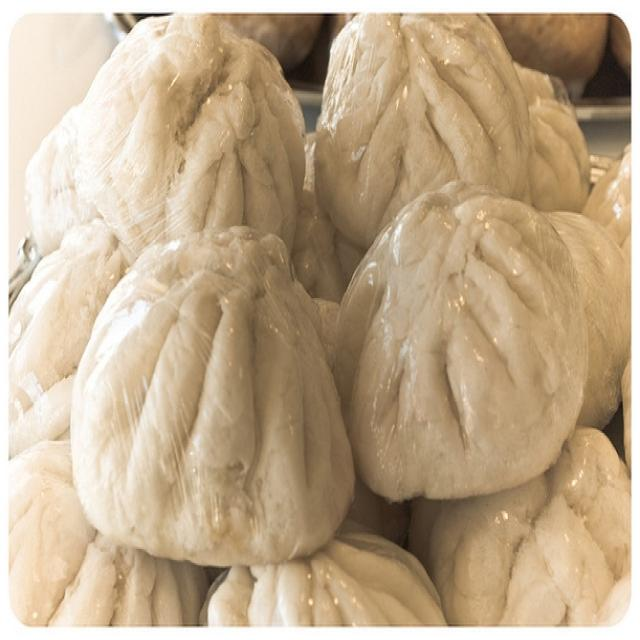带馅早点: (16, 29, 630, 614)
